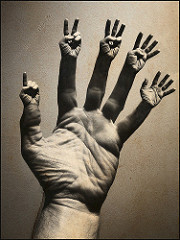palm: (45, 109, 119, 194), (144, 87, 165, 105)
